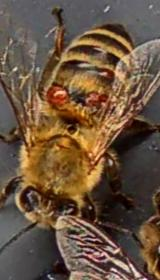varroa_mite: (46, 80, 76, 110), (81, 86, 112, 111)
